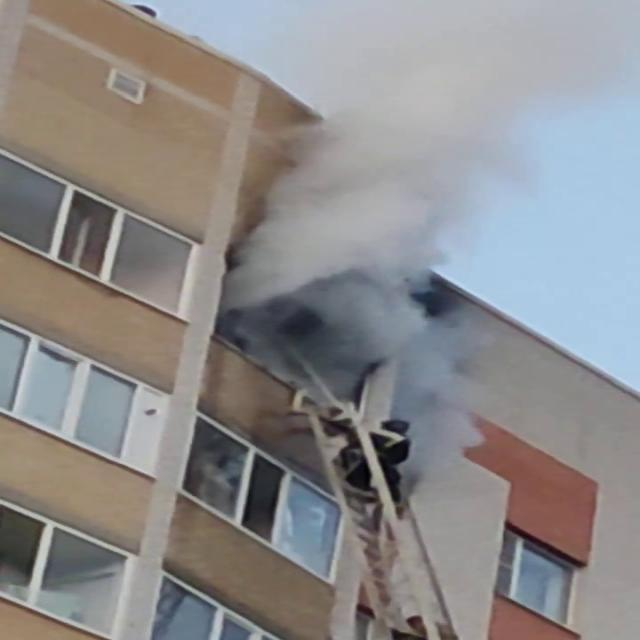Smoke: (220, 0, 638, 389)
